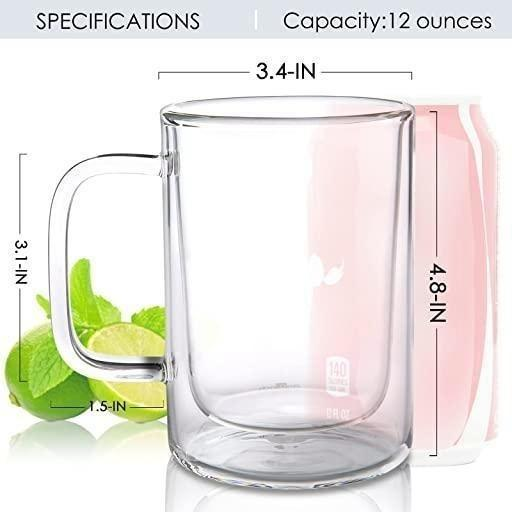glass-mug: (45, 90, 421, 496)
